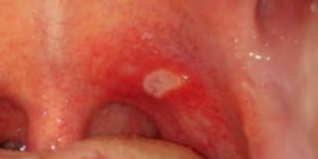Ulcer: (137, 65, 196, 103)
